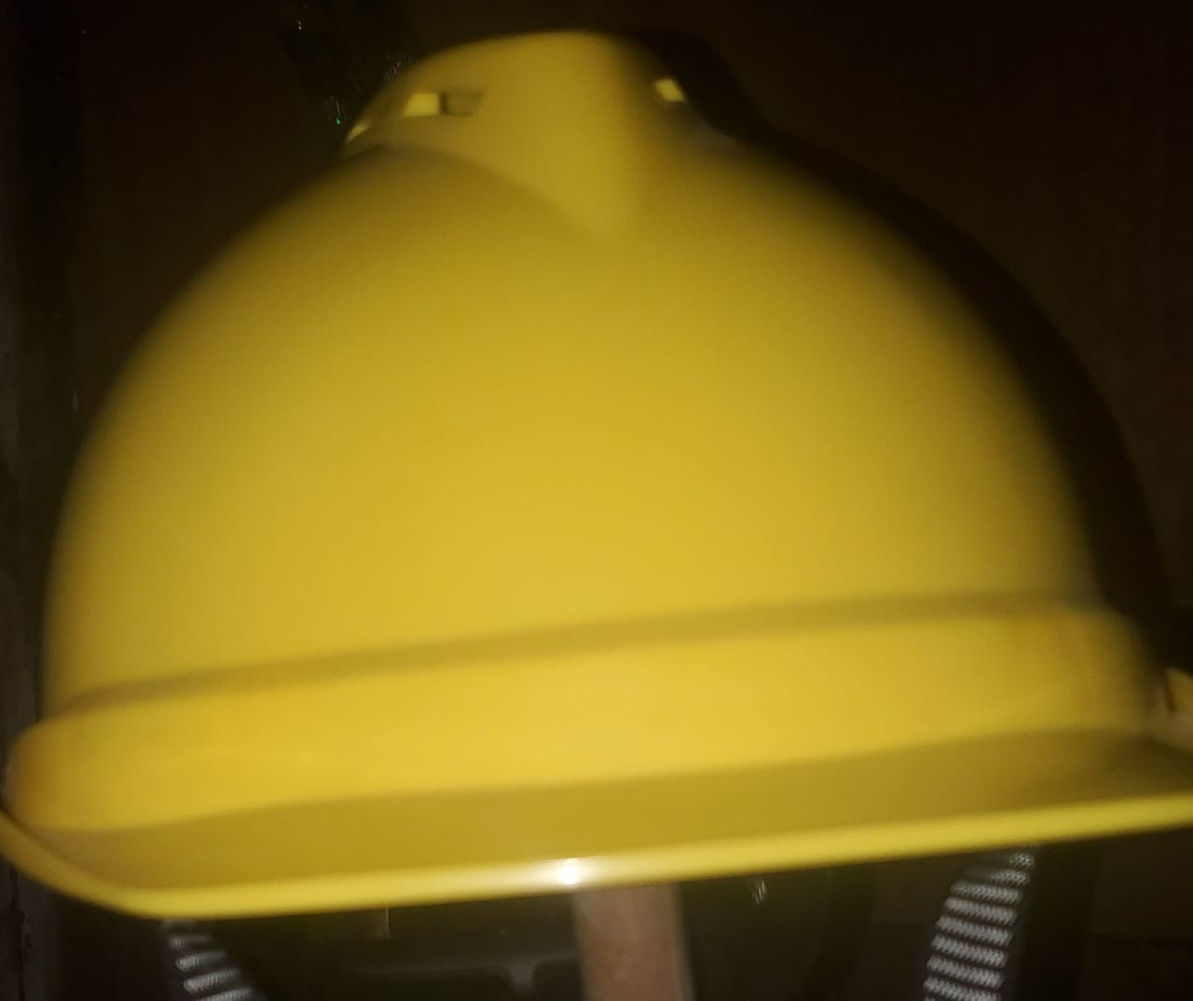helment: (16, 30, 1193, 920)
